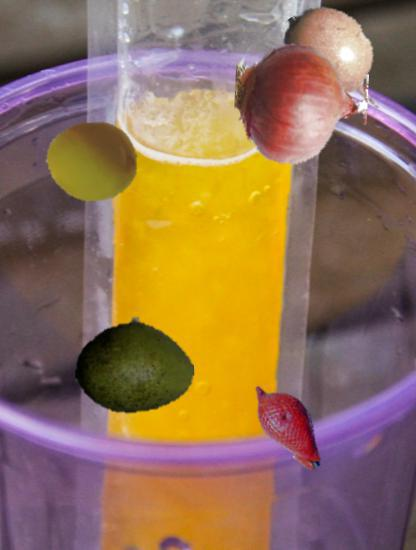Avocado: (75, 305, 194, 424)
Granadilla: (273, 0, 398, 125)
Onion: (234, 38, 368, 172)
Peach: (46, 116, 138, 208)
Salak: (237, 373, 340, 476)
